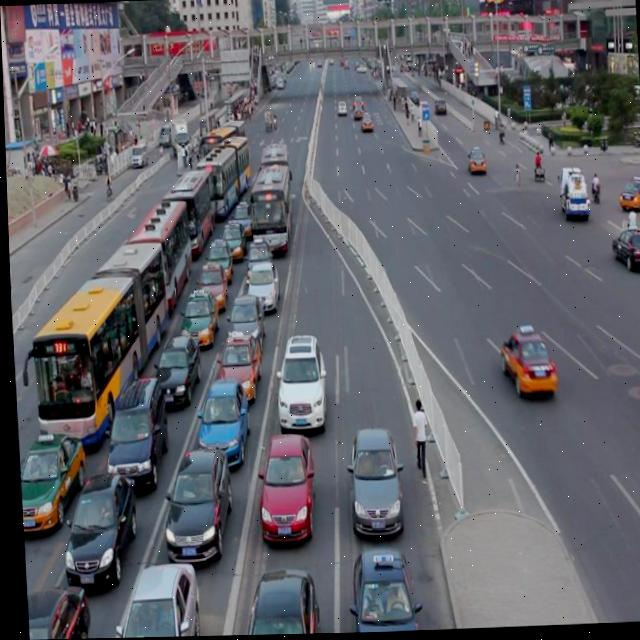bus: (554, 165, 585, 218)
car: (56, 475, 135, 586), (158, 453, 231, 566), (101, 380, 165, 490), (15, 432, 83, 530), (252, 437, 312, 542), (343, 548, 416, 634), (110, 566, 195, 638), (342, 432, 400, 537), (232, 571, 314, 636), (271, 339, 325, 433), (194, 382, 247, 467), (492, 324, 552, 399), (152, 338, 199, 408), (22, 588, 85, 640), (214, 335, 259, 403), (224, 297, 264, 358), (177, 291, 217, 348), (606, 226, 640, 274), (243, 267, 277, 312), (195, 267, 226, 310), (202, 239, 230, 282), (612, 174, 640, 214), (216, 221, 244, 261), (243, 240, 271, 279), (229, 203, 252, 240), (463, 147, 483, 175), (359, 116, 371, 133)
van: (14, 245, 171, 448), (119, 200, 193, 316), (192, 137, 250, 220), (160, 171, 214, 257), (247, 168, 290, 253), (257, 145, 291, 213), (197, 122, 246, 162)
